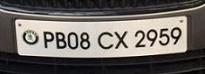0: (66, 31, 78, 48)
2: (132, 28, 146, 47)
5: (157, 26, 169, 46)
8: (78, 30, 91, 49)
9: (145, 27, 157, 46), (169, 26, 181, 44)
B: (54, 30, 67, 48)
C: (96, 30, 114, 49)
P: (41, 29, 54, 48)
X: (112, 29, 129, 48)
